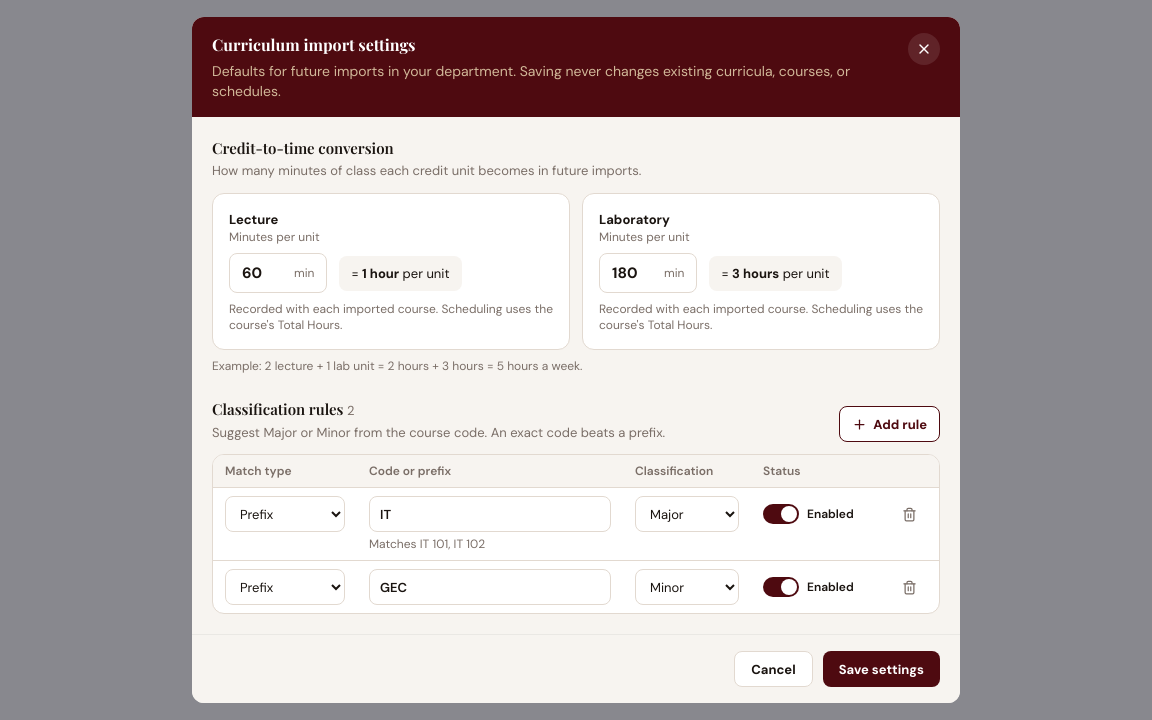
it: curriculum import settings modal › shows server validation messages against the right rule
This screenshot has width=1152, height=720.
Step 1. Click the button "Save settings" → coordinates (881, 669), box [823, 651, 940, 687]
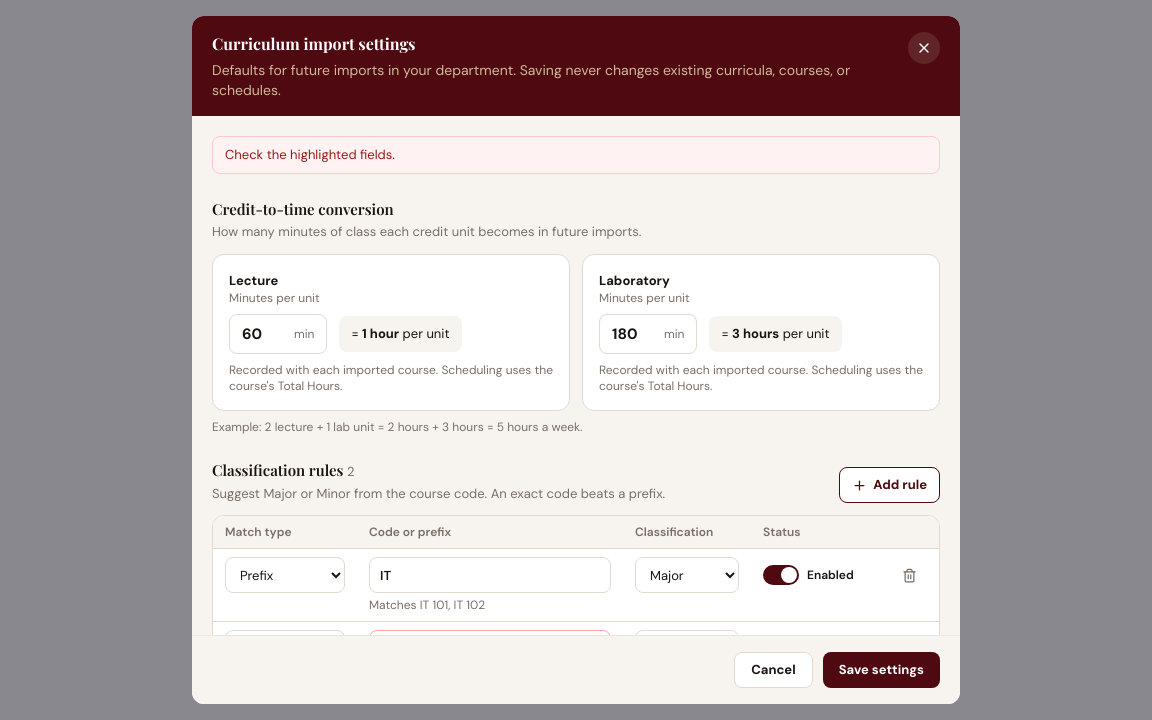
Now the message reads "Check the highlighted fields.", box [225, 146, 395, 163]
